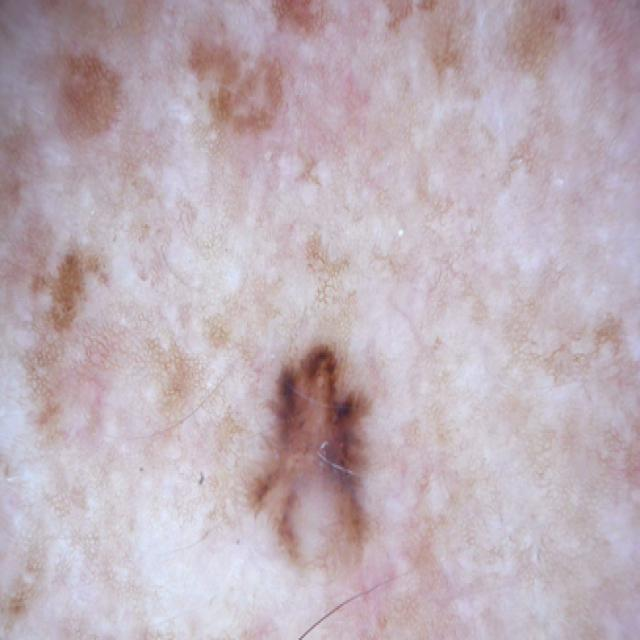Carcinoma: (166, 154, 434, 640)
